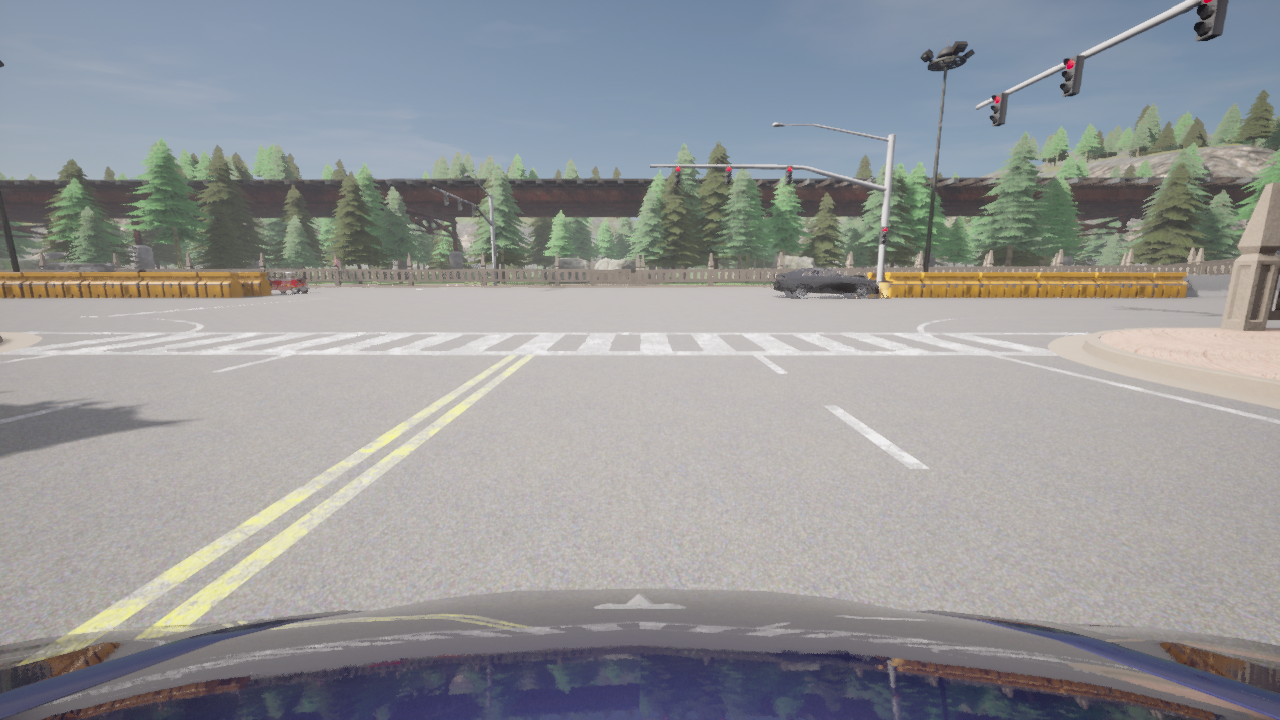cyclist: (0, 588, 1279, 719), (775, 267, 880, 298), (266, 270, 308, 293), (42, 263, 117, 271)
pedestrian: (488, 273, 490, 283)
